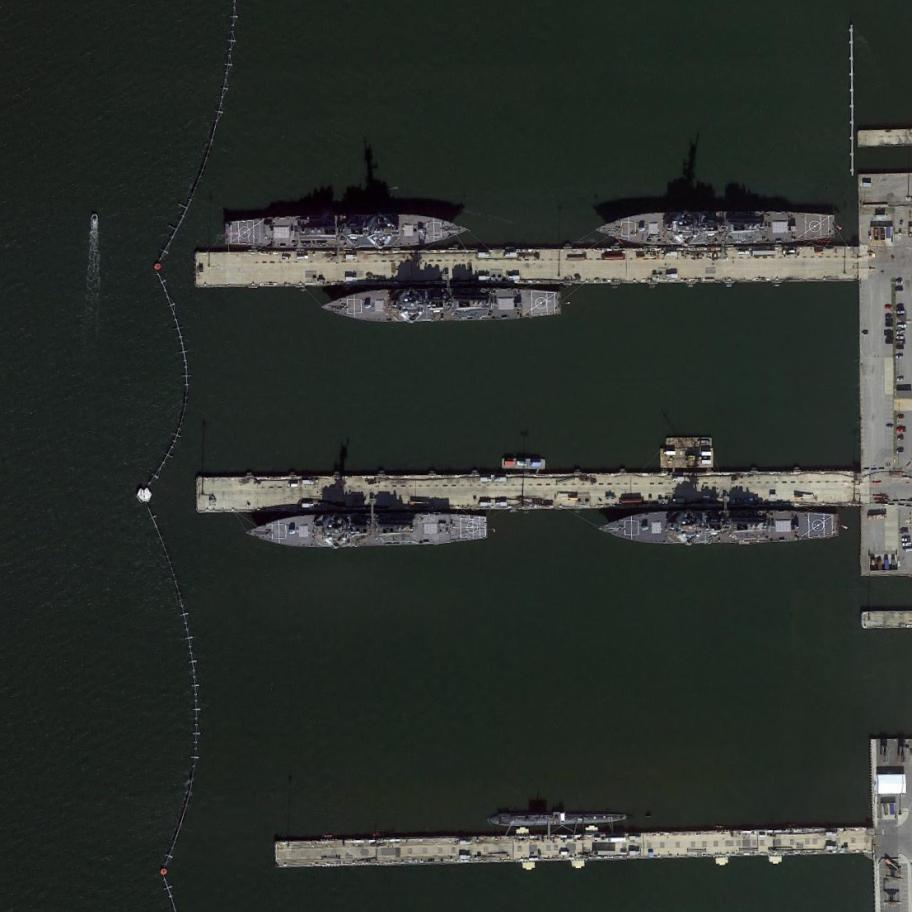ship: (225, 212, 471, 250), (595, 210, 835, 247), (247, 513, 487, 550), (321, 289, 561, 324), (600, 511, 840, 546), (487, 811, 627, 828), (658, 439, 715, 468), (502, 456, 545, 469)
small-vehicle: (894, 279, 905, 285), (895, 285, 904, 292), (896, 324, 907, 329), (896, 428, 905, 434), (896, 449, 905, 454), (903, 543, 912, 548), (902, 538, 911, 543), (885, 305, 894, 310), (885, 317, 893, 322), (885, 339, 893, 344), (886, 425, 894, 430), (896, 336, 905, 340), (897, 415, 904, 420), (895, 355, 903, 359), (897, 331, 907, 334), (896, 377, 903, 381), (885, 331, 892, 335), (897, 311, 905, 314), (904, 549, 912, 552), (886, 322, 892, 326), (898, 437, 903, 441), (886, 314, 891, 318)
